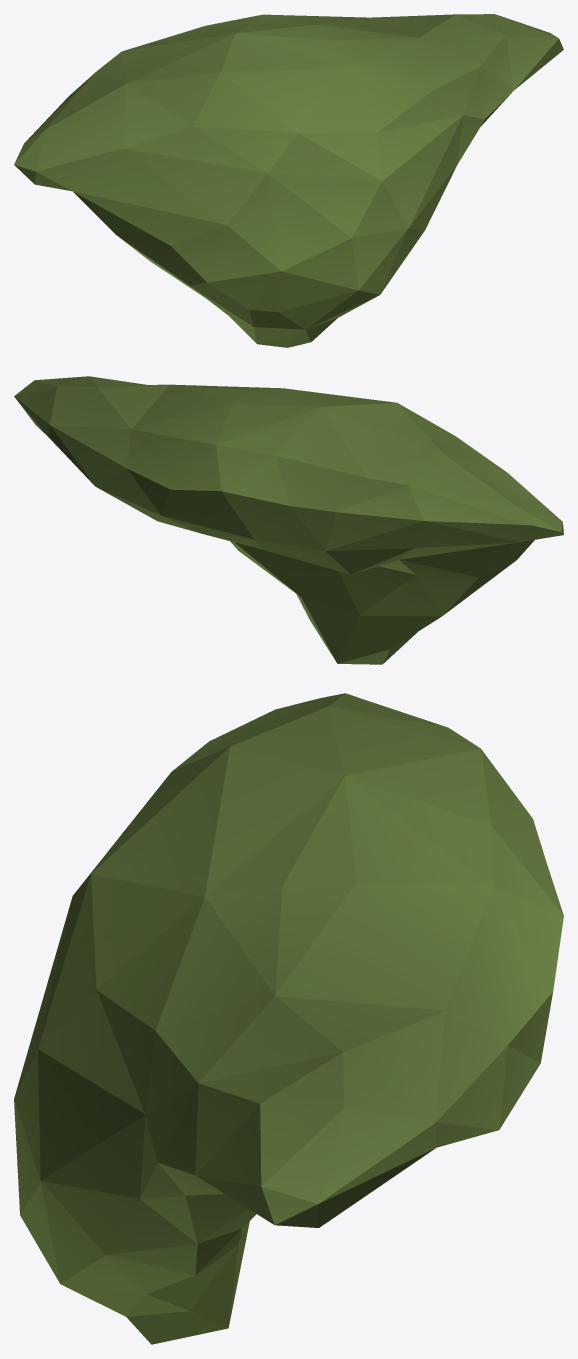
File: Jungle_BushTopper_B.fbx
3 views of the same model, one above another, from view 1: azimuth 30°, elevation 25°; view 2: azimuth 150°, elevation 25°; view 3: azimuth 270°, elevation 25° (orthographic). The views are drawn at different scales.
Parts seen in each view (by area): view 1: Jungle_BushTopper_B; view 2: Jungle_BushTopper_B; view 3: Jungle_BushTopper_B.
Part boxes in pixels (<box>): Jungle_BushTopper_B: <box>14,14,563,347</box>; Jungle_BushTopper_B: <box>14,376,563,664</box>; Jungle_BushTopper_B: <box>14,693,563,1344</box>.
Size of the model in its own units: 5.49 by 2.76 by 2.49.
